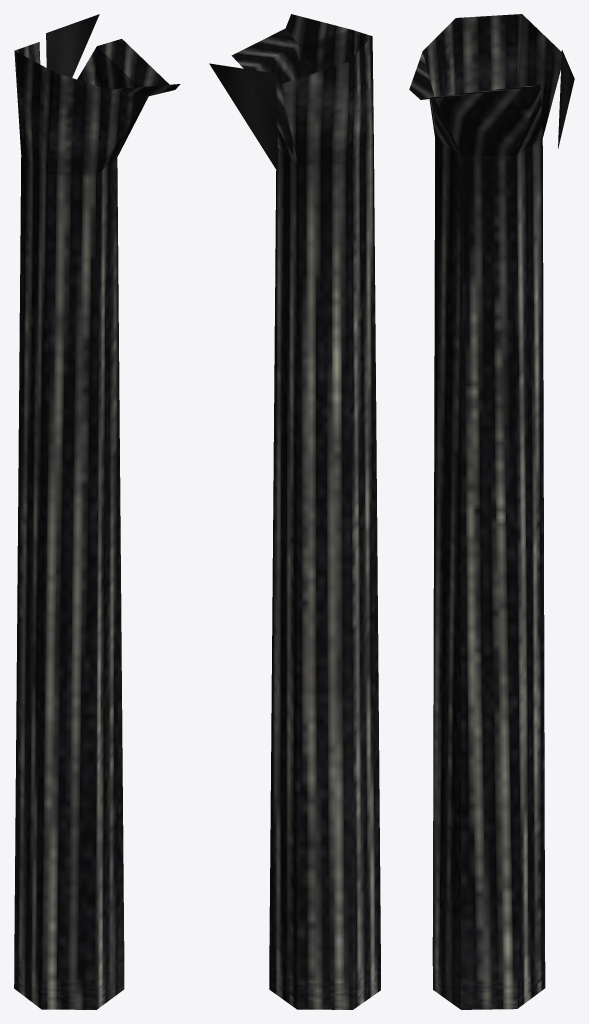
Rendered from Jack_pelvis_der.obj.
The picture shows the model from 3 angles, left to right: view 1: azimuth 30°, elevation 25°; view 2: azimuth 150°, elevation 25°; view 3: azimuth 270°, elevation 25°; orthographic projection. The views are drawn at different scales.
Parts seen in each view (by area): view 1: rdmobj01.010_rdmobj01.013; view 2: rdmobj01.010_rdmobj01.013; view 3: rdmobj01.010_rdmobj01.013.
Part boxes in pixels (x1,y1,x2,y2): rdmobj01.010_rdmobj01.013: [14, 14, 180, 1009]; rdmobj01.010_rdmobj01.013: [209, 14, 380, 1009]; rdmobj01.010_rdmobj01.013: [409, 14, 574, 1009].
Size of the model in its own units: 0.0827 by 0.6509 by 0.102.
1 material, 1 textured.
